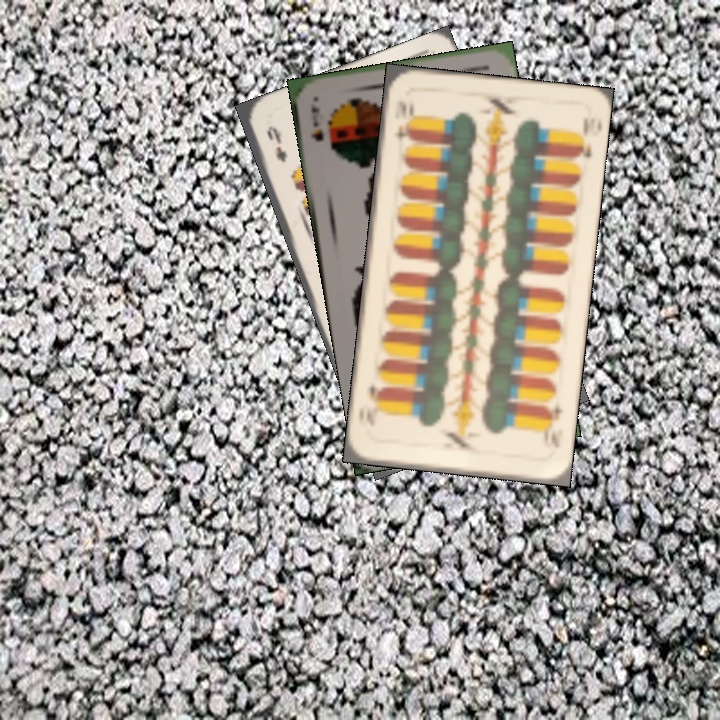E10: (541, 400, 566, 451), (392, 96, 416, 144)
E9: (262, 122, 290, 165)
SO: (307, 101, 327, 144)
